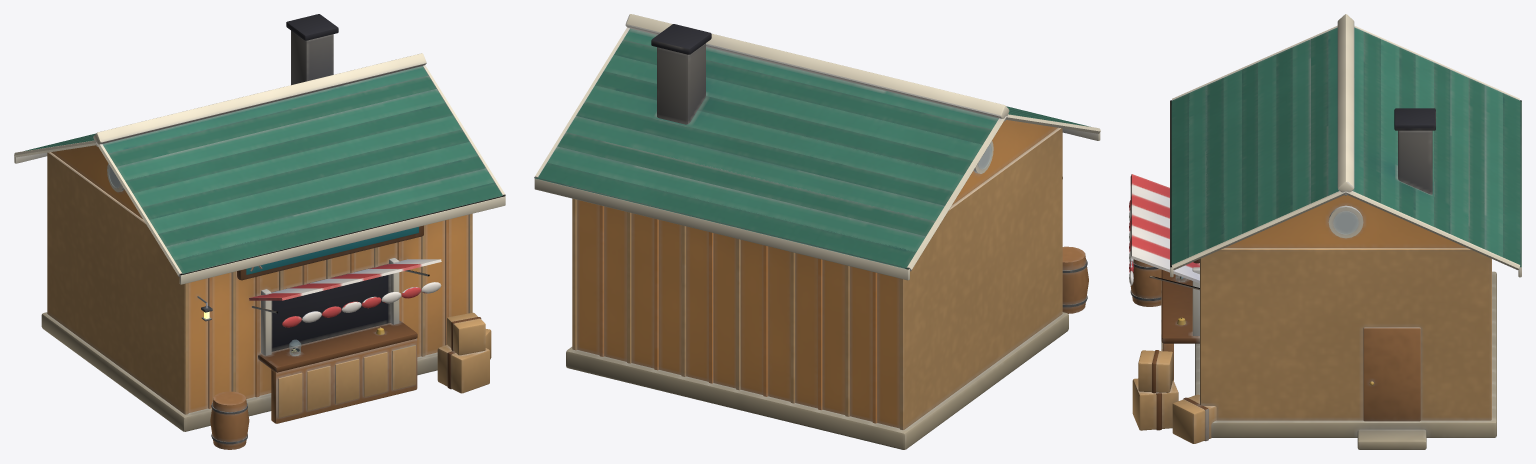
Rendered from tool_shop.glb.
3 views of the same model, side by side, from view 1: azimuth 30°, elevation 25°; view 2: azimuth 150°, elevation 25°; view 3: azimuth 270°, elevation 25° (orthographic). The views are drawn at different scales.
Visible parts, largest first — view 1: SM_ToolShop; view 2: SM_ToolShop; view 3: SM_ToolShop.
Boxes of the visible parts, <box> form: SM_ToolShop: <box>14,14,505,449</box>; SM_ToolShop: <box>534,14,1100,449</box>; SM_ToolShop: <box>1129,14,1521,449</box>.
Size of what is drawn, in the model's own units: 7.06 by 5.57 by 6.81.
Materials: 3 (1 with a texture image).
